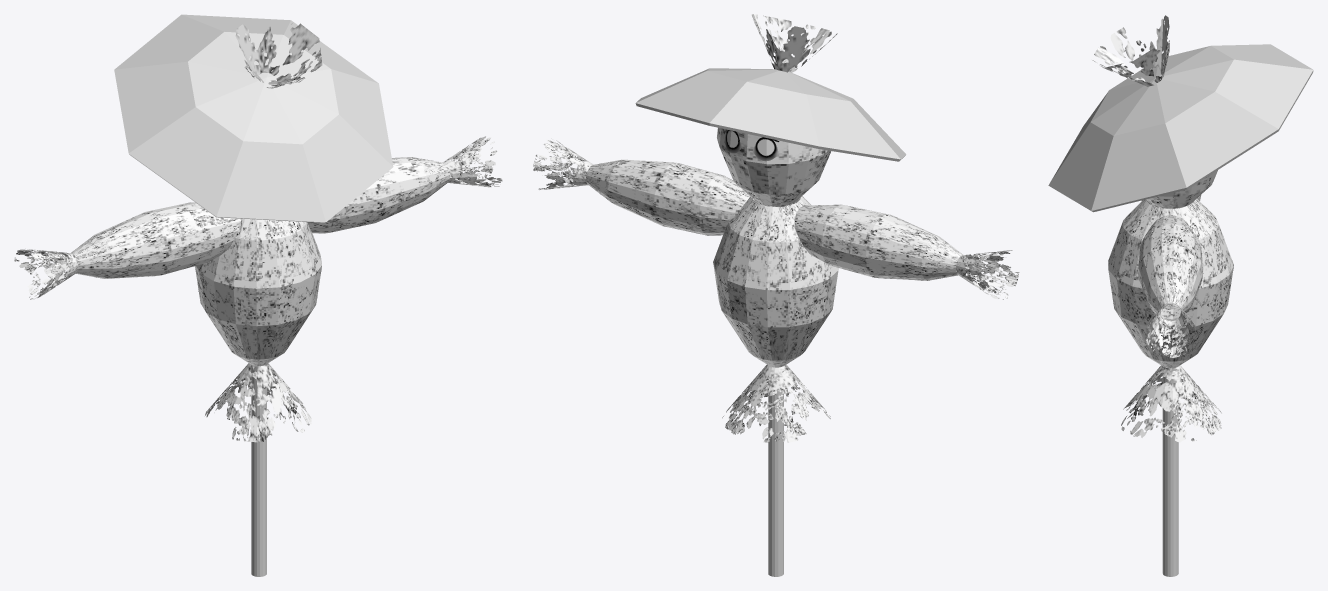
The model's file is scarecrow.fbx.
The picture shows the model from 3 angles, left to right: view 1: azimuth 30°, elevation 25°; view 2: azimuth 150°, elevation 25°; view 3: azimuth 270°, elevation 25°; orthographic projection.
Visible parts, largest first — view 1: hat, head, pole; view 2: head, hat, pole, eyes; view 3: hat, head, pole.
Boxes of the visible parts, left/top/right/bottom form: hat: left=114, top=14, right=393, bottom=222; head: left=14, top=23, right=502, bottom=442; pole: left=251, top=367, right=266, bottom=576; head: left=533, top=14, right=1019, bottom=442; hat: left=635, top=68, right=906, bottom=161; pole: left=768, top=206, right=783, bottom=576; eyes: left=725, top=130, right=779, bottom=161; hat: left=1048, top=44, right=1313, bottom=212; head: left=1092, top=15, right=1233, bottom=442; pole: left=1162, top=367, right=1178, bottom=576.
Size of the model in its own units: 395 by 455 by 198.
